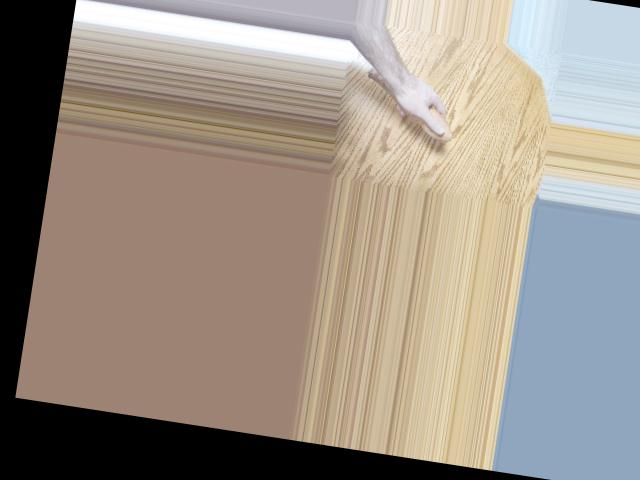sweet_potato: (356, 65, 461, 142)
